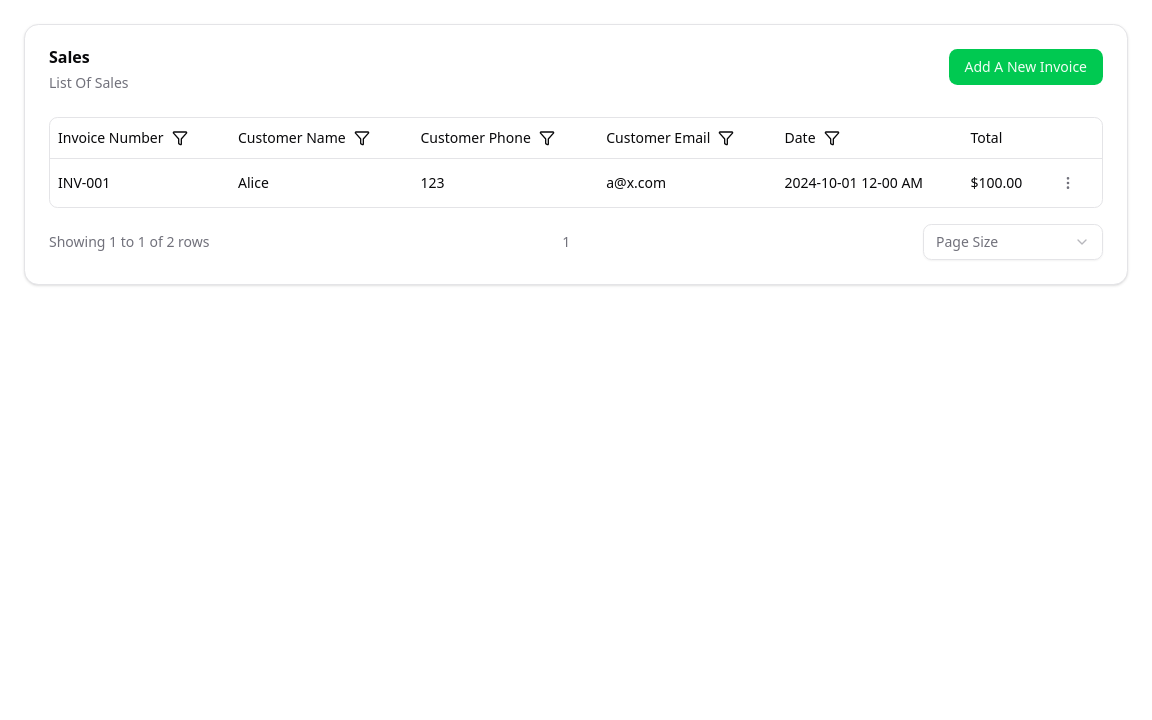
Test: Sales page delete flow › deletes a row after confirmation and refetches data
This screenshot has width=1152, height=720.
Expected: the text "INV-001" is shown, [50,158,230,206]
Open the row action menu via the "open menu" button inside this row
Click the button named "open menu" in the row of "INV-001".
click(1068, 182)  # box [1052,166,1084,198]
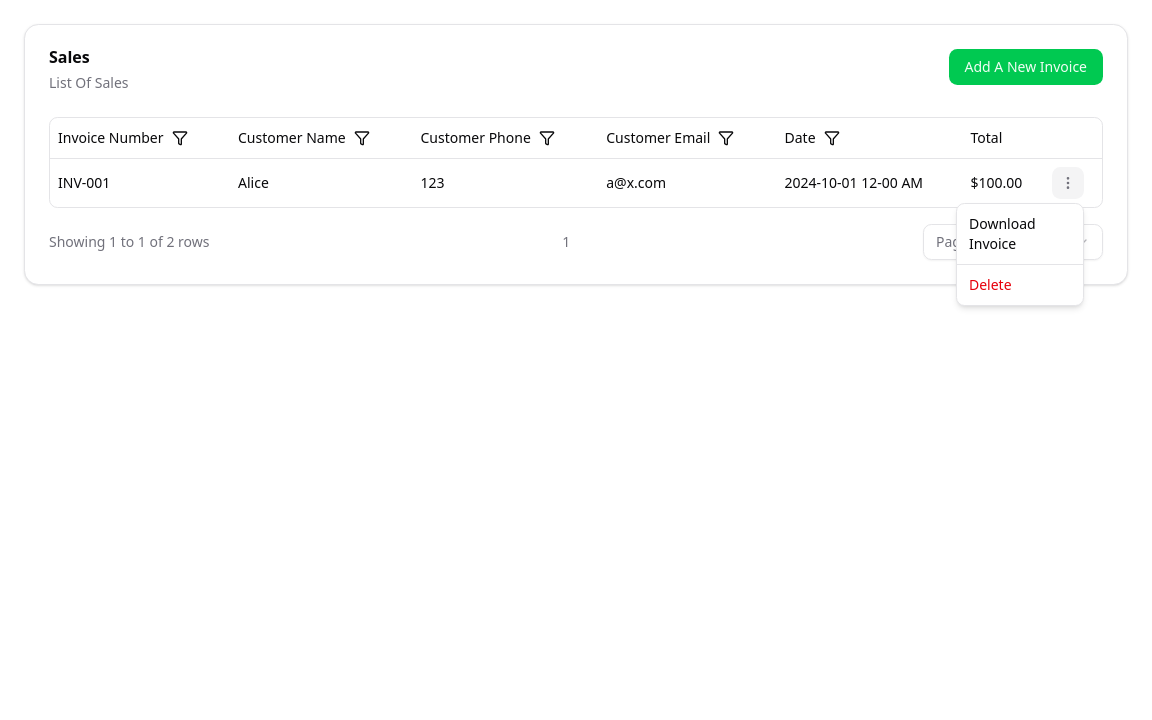
Click the "Delete" menu item in the opened menu
Click the menu item "Delete".
click(990, 284)  # box [969,275,1012,294]
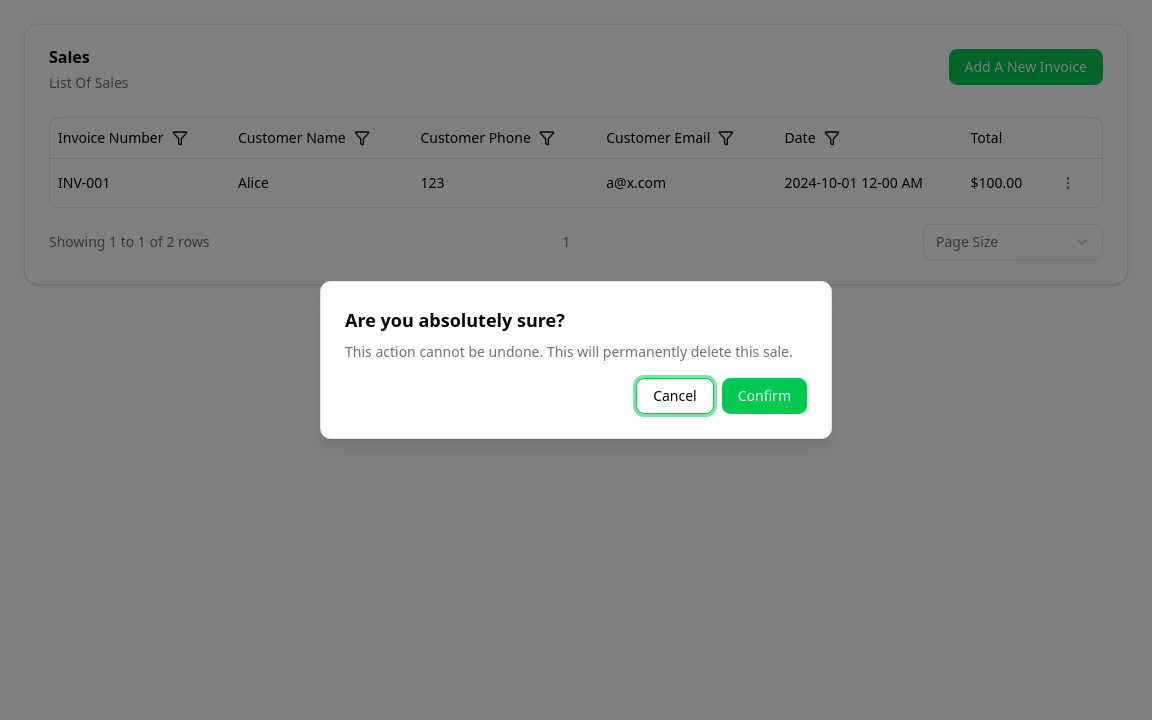
In the confirmation dialog, click the "Confirm" button
Click the button "Confirm".
click(764, 396)  # box [722,378,807,414]
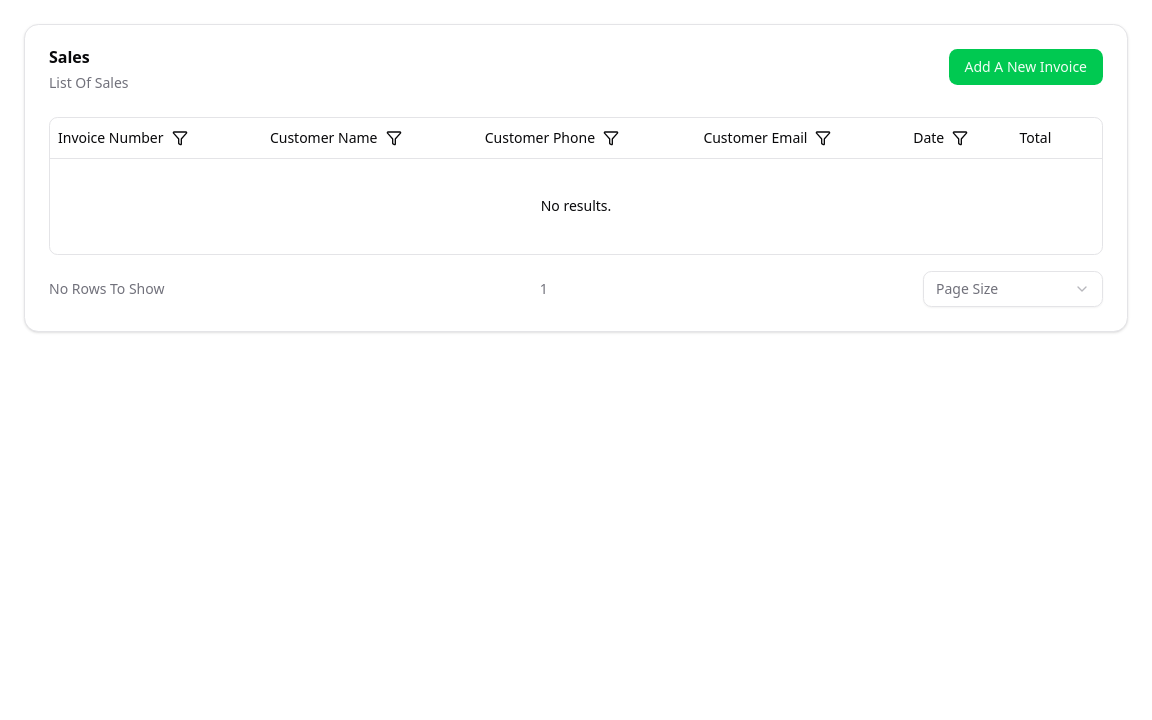
Expected: the text "No results." is shown, [50,158,1102,254]
